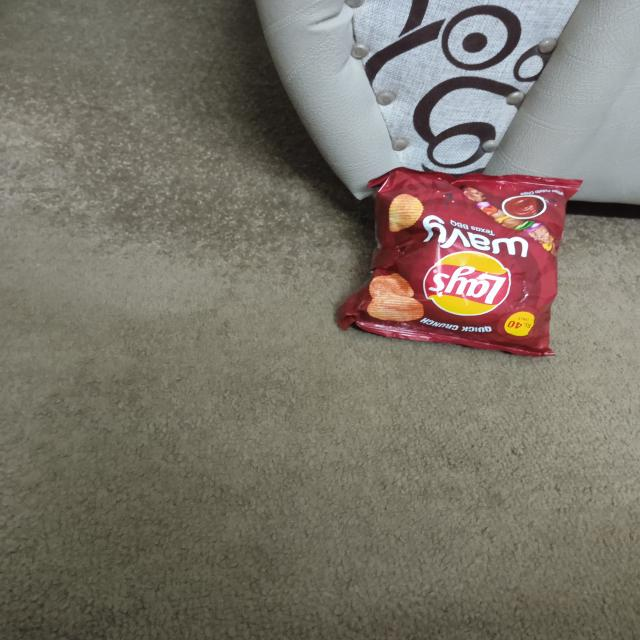Plastic: (332, 154, 585, 368)
